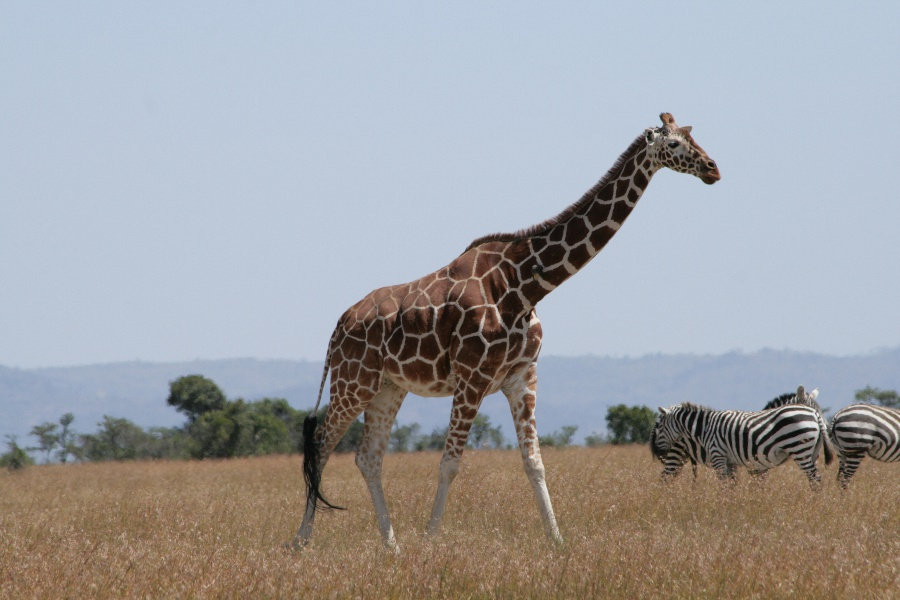giraffe: (278, 104, 729, 555)
